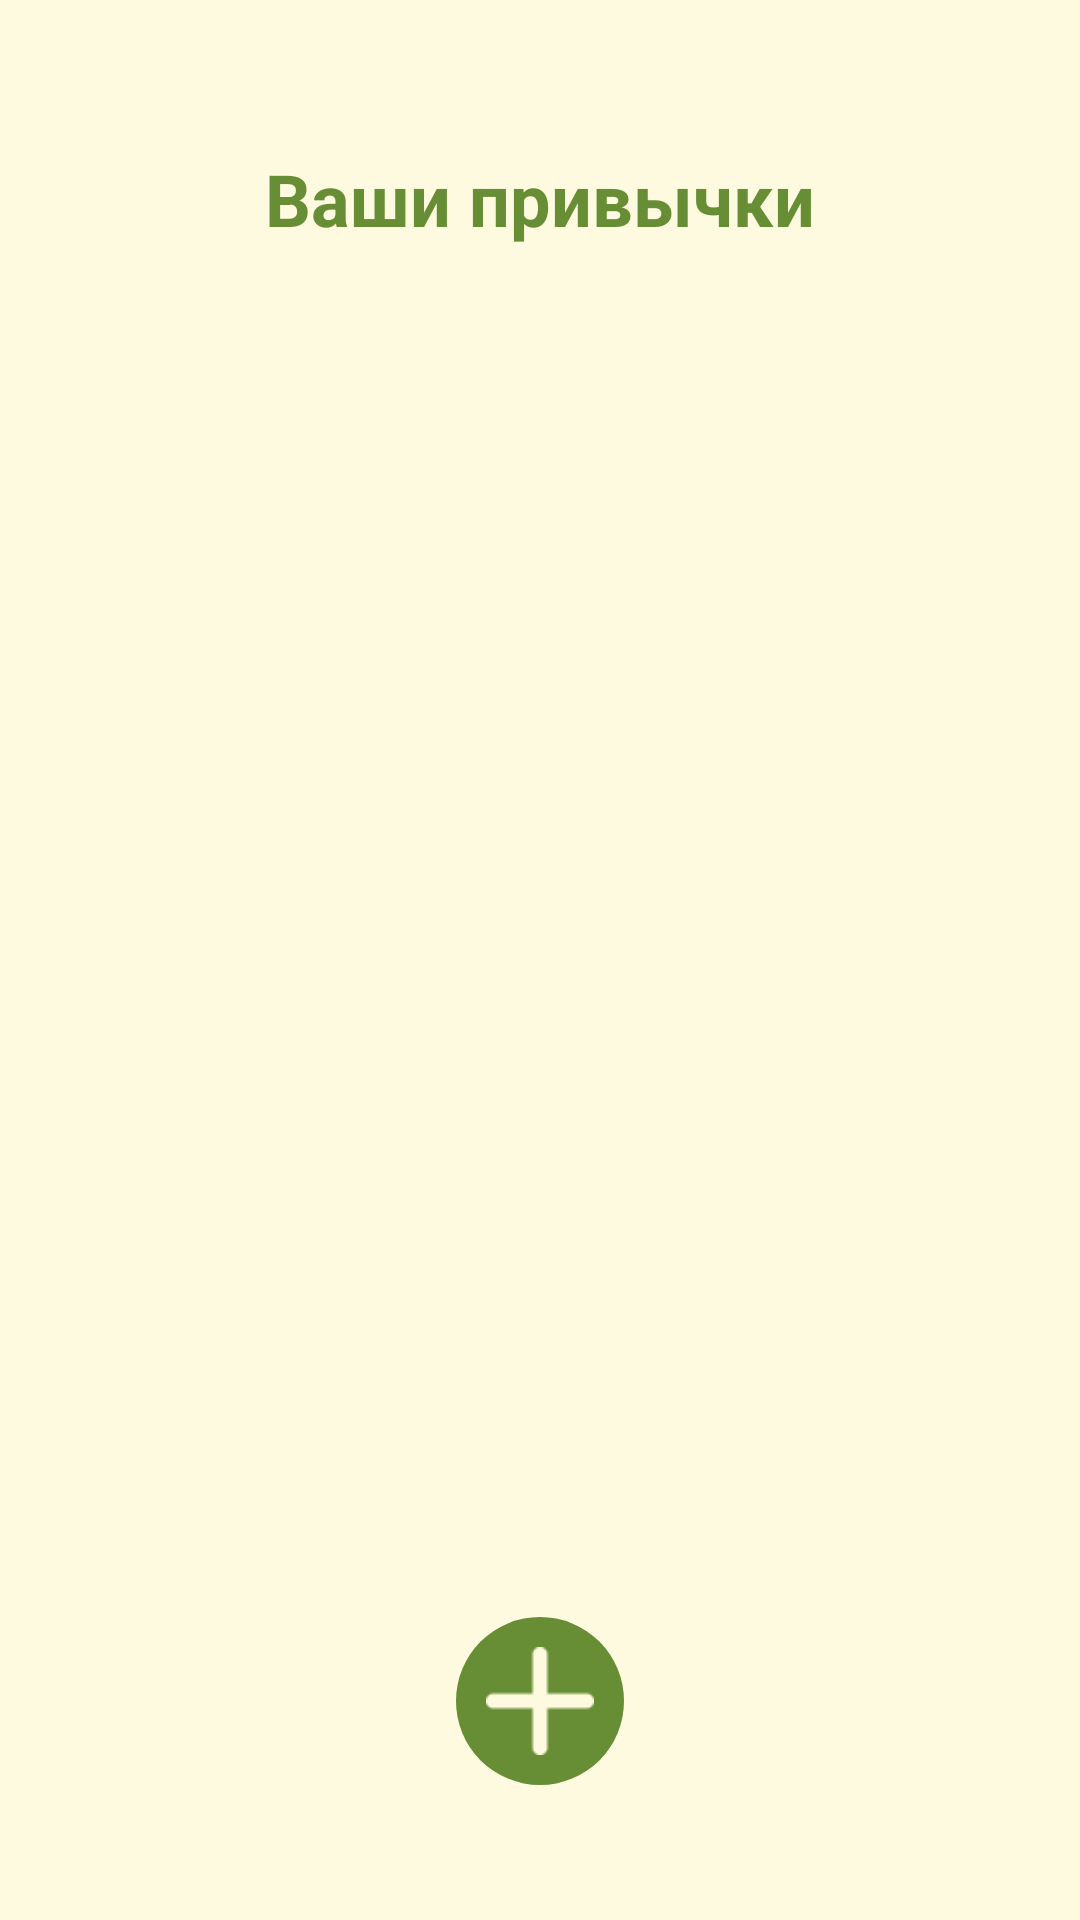

Named icons in this screenshot (1080px x 1920px) and their centers, (x=x, y=y):
Добавить новую привычку: (x=540, y=1701)
